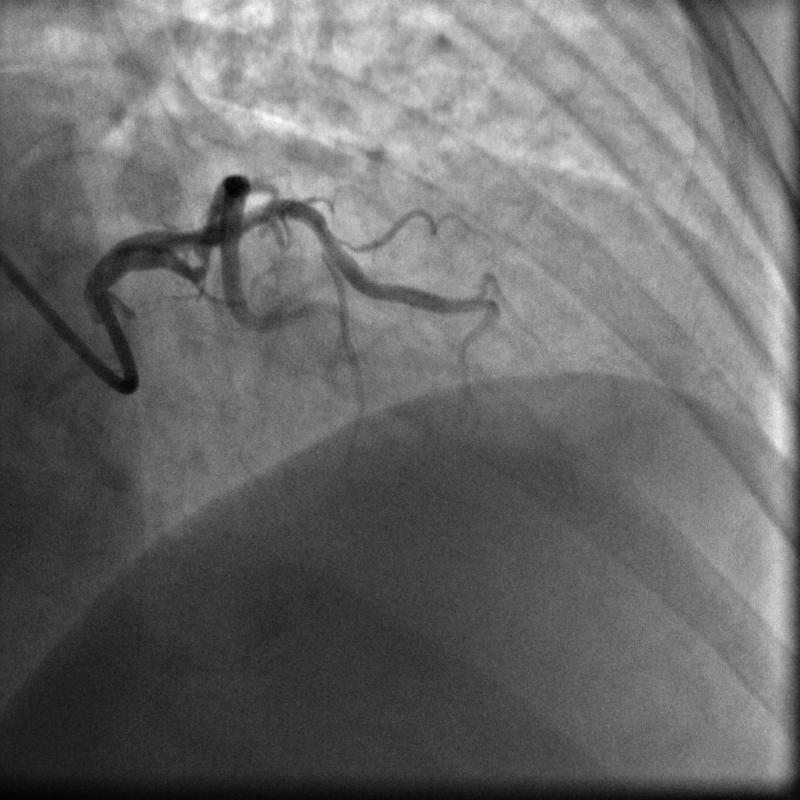Stenosis: (183, 248, 216, 280)
